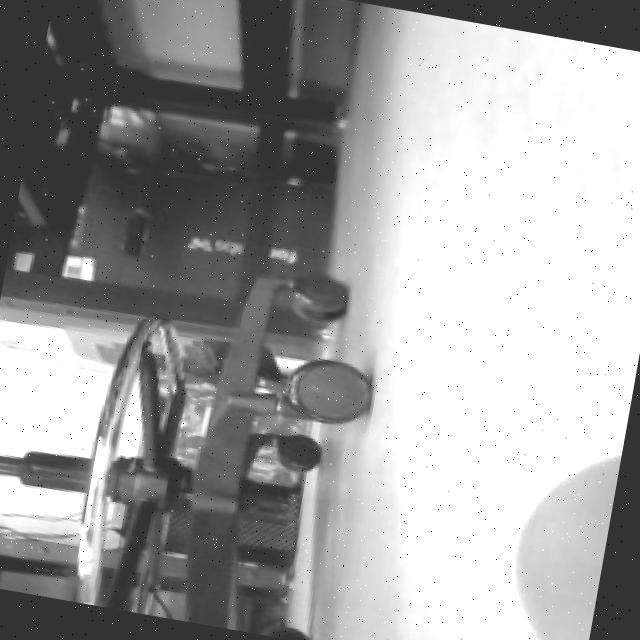ping-pong-ball: (477, 409, 626, 640)
